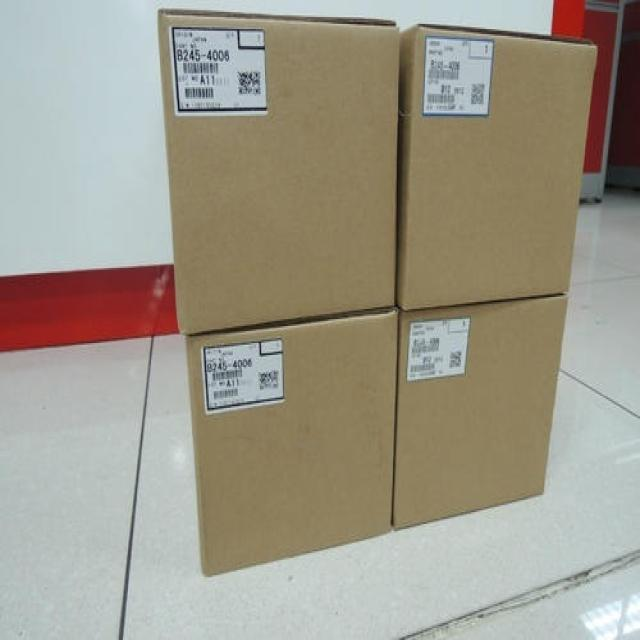box: (157, 9, 397, 338), (183, 304, 398, 580), (397, 22, 598, 312), (394, 294, 570, 531)
